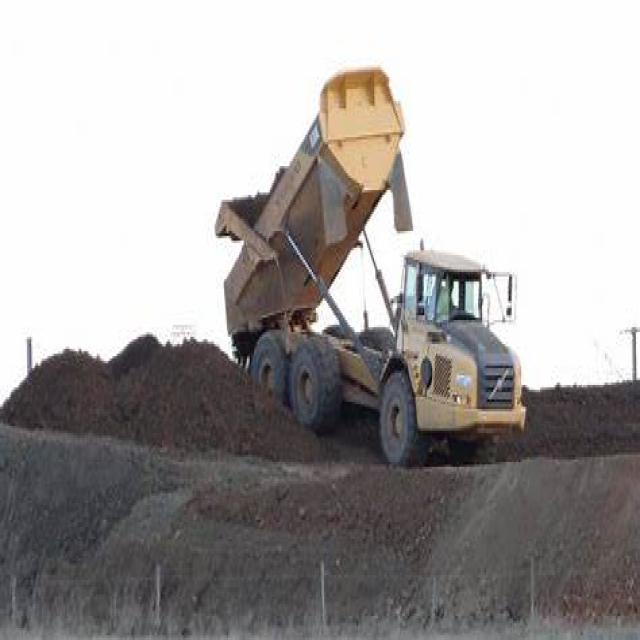dump_truck: (202, 48, 530, 484)
